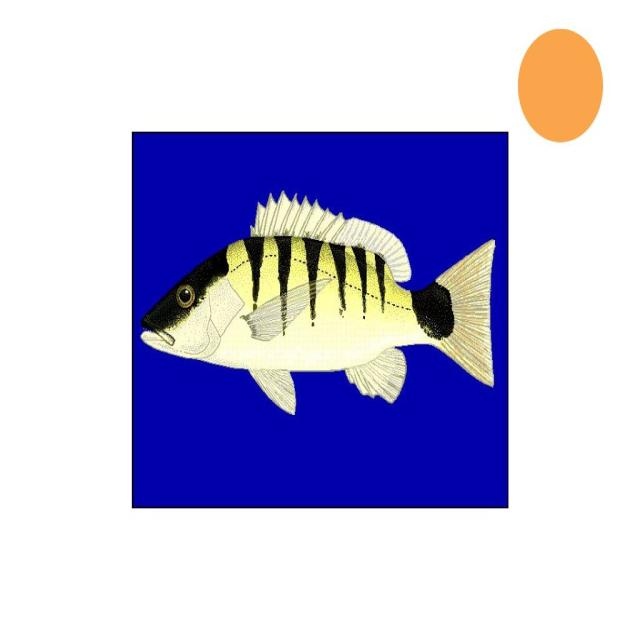ikan: (140, 189, 496, 415)
